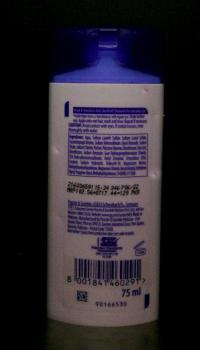dent_marginal: (47, 197, 75, 227), (48, 134, 68, 163), (143, 107, 164, 128), (142, 270, 159, 294), (146, 160, 160, 185), (134, 84, 154, 96)
